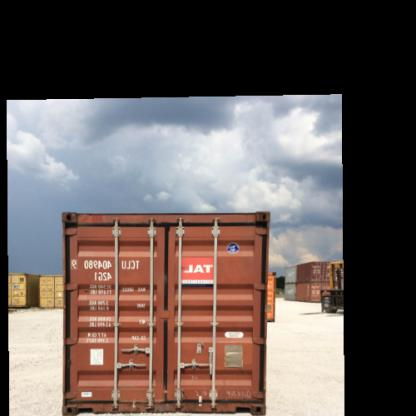Damage: (147, 383, 180, 408)
